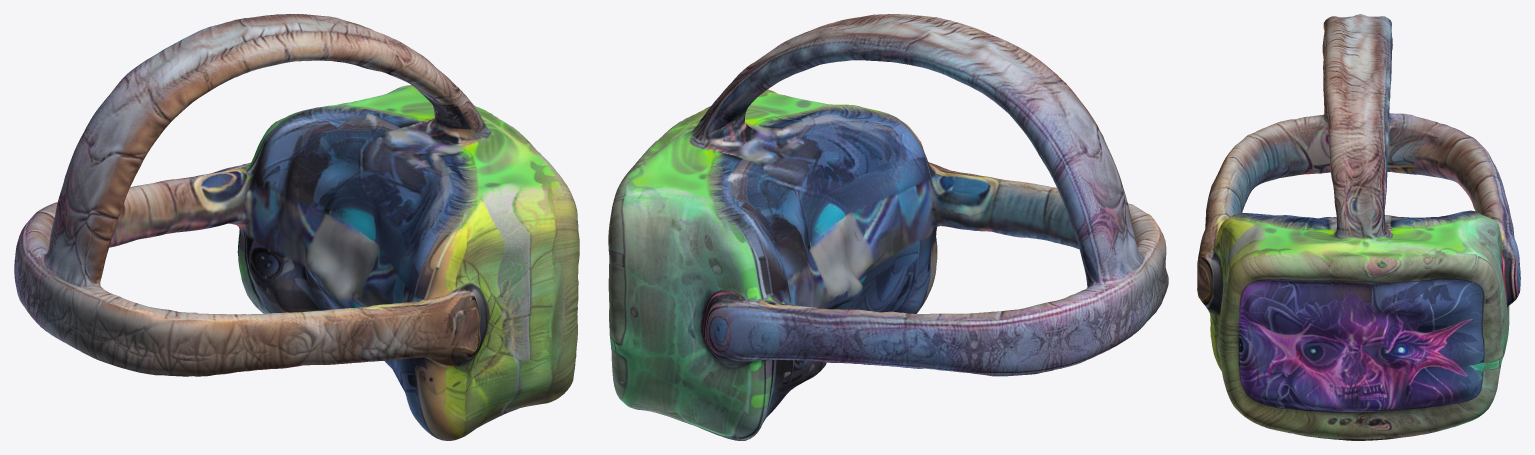
The picture shows the model from 3 angles, left to right: view 1: azimuth 30°, elevation 25°; view 2: azimuth 150°, elevation 25°; view 3: azimuth 270°, elevation 25°; orthographic projection. The views are drawn at different scales.
Parts seen in each view (by area): view 1: Mesh_0; view 2: Mesh_0; view 3: Mesh_0.
Boxes of the visible parts, <box> form: Mesh_0: <box>14,14,579,440</box>; Mesh_0: <box>608,14,1168,440</box>; Mesh_0: <box>1197,14,1520,440</box>.
Bounding box in the file's own units: 120 × 96.37 × 89.49.
Materials: 1 (1 with a texture image).
